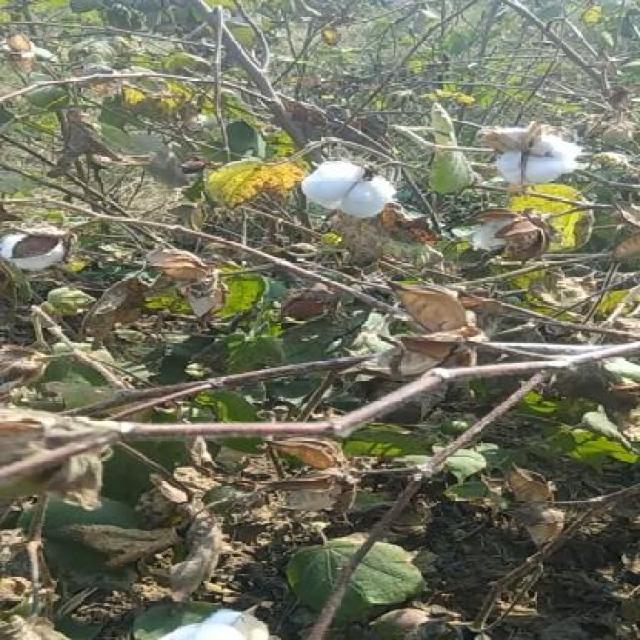cotton_ready: (472, 121, 590, 216), (268, 168, 422, 240)
